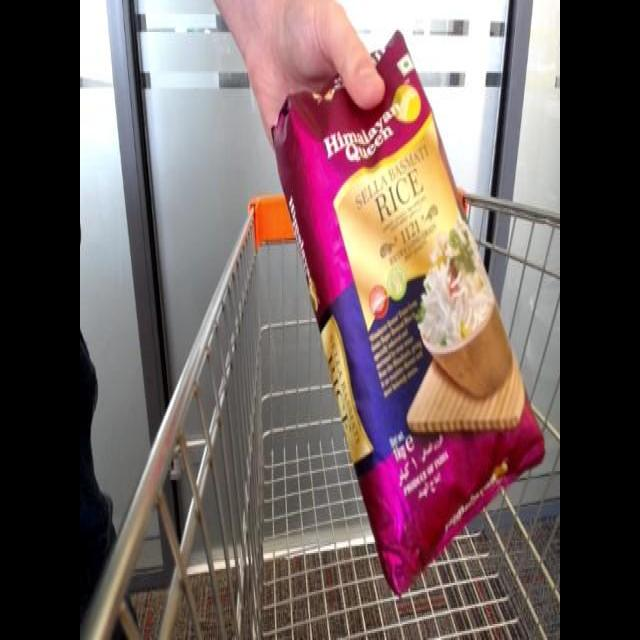Basmati Rice: (269, 25, 534, 595)
